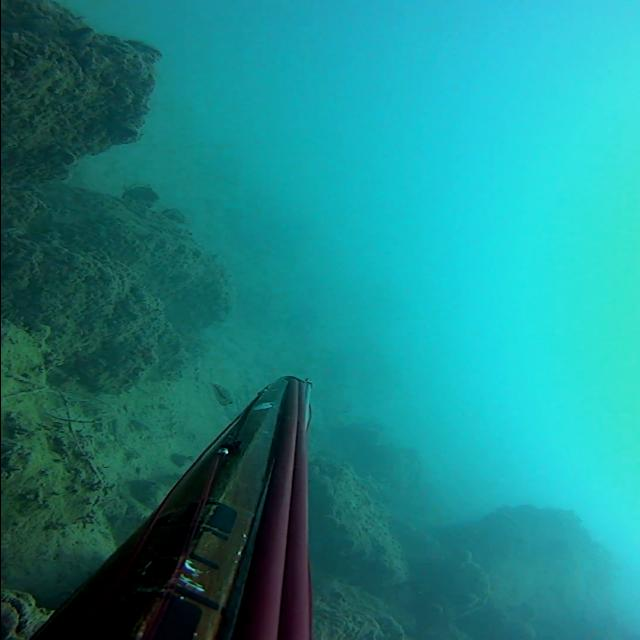Balon Baligi: (208, 381, 232, 406)
